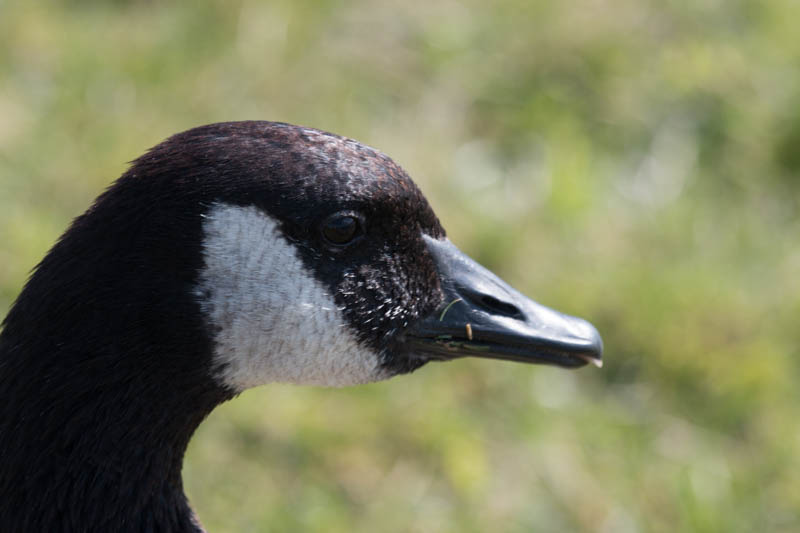goose-head: (118, 120, 603, 406)
